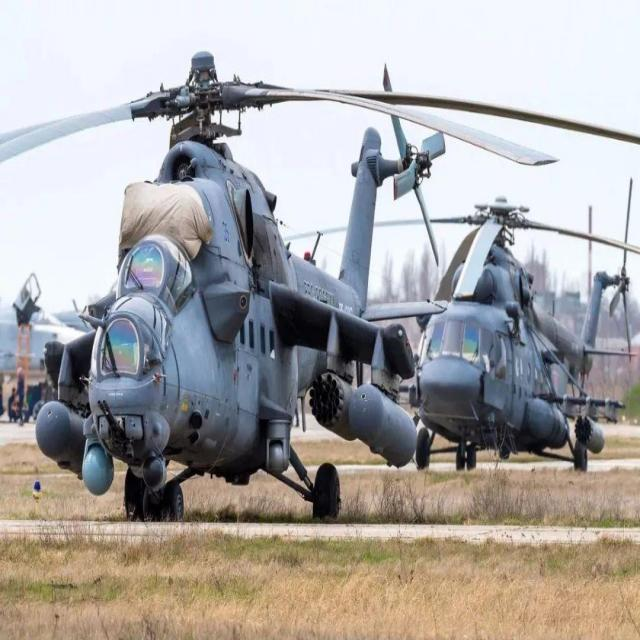MIL_HELO: (0, 34, 558, 535), (308, 180, 640, 478)
